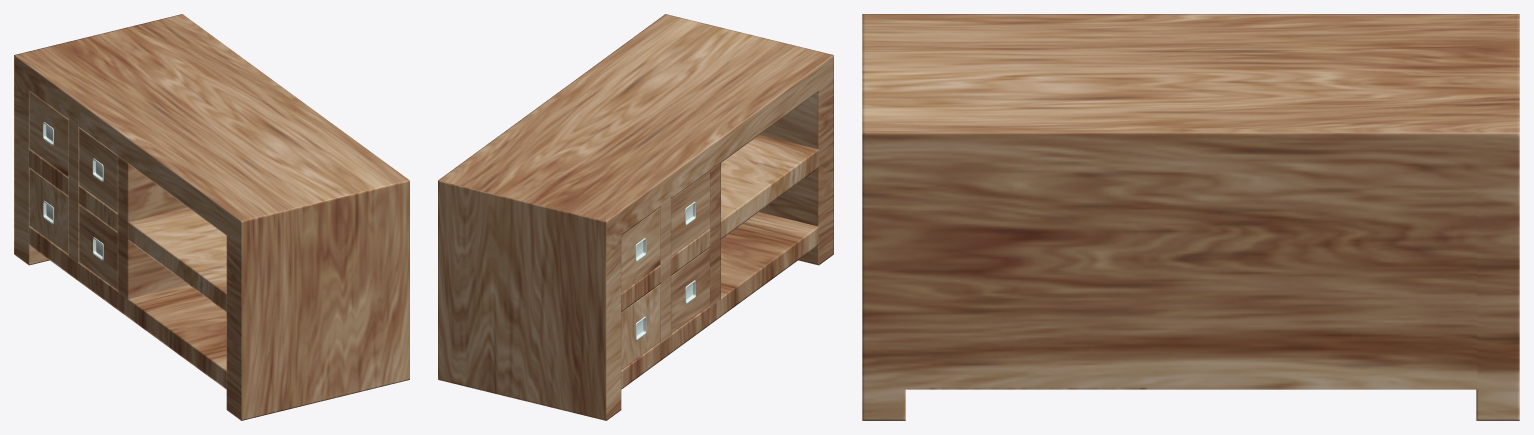
Rendered from drawer_04.obj.
The picture shows the model from 3 angles, left to right: view 1: azimuth 30°, elevation 25°; view 2: azimuth 150°, elevation 25°; view 3: azimuth 270°, elevation 25°; orthographic projection. The views are drawn at different scales.
Parts seen in each view (by area): view 1: drawer_04; view 2: drawer_04; view 3: drawer_04.
Boxes of the visible parts, <box> form: drawer_04: <box>14,14,409,420</box>; drawer_04: <box>438,14,833,420</box>; drawer_04: <box>862,14,1519,420</box>.
Bounding box in the file's own units: 2.06 × 2.32 × 4.8.
